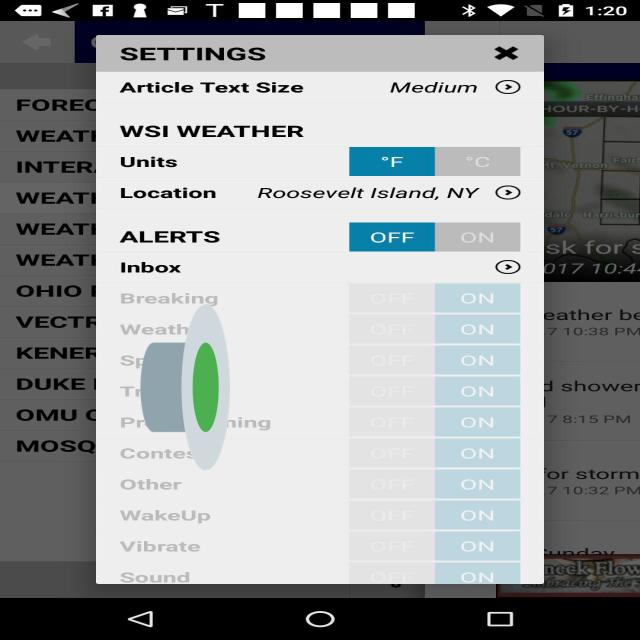social proof: (140, 234, 230, 541)
